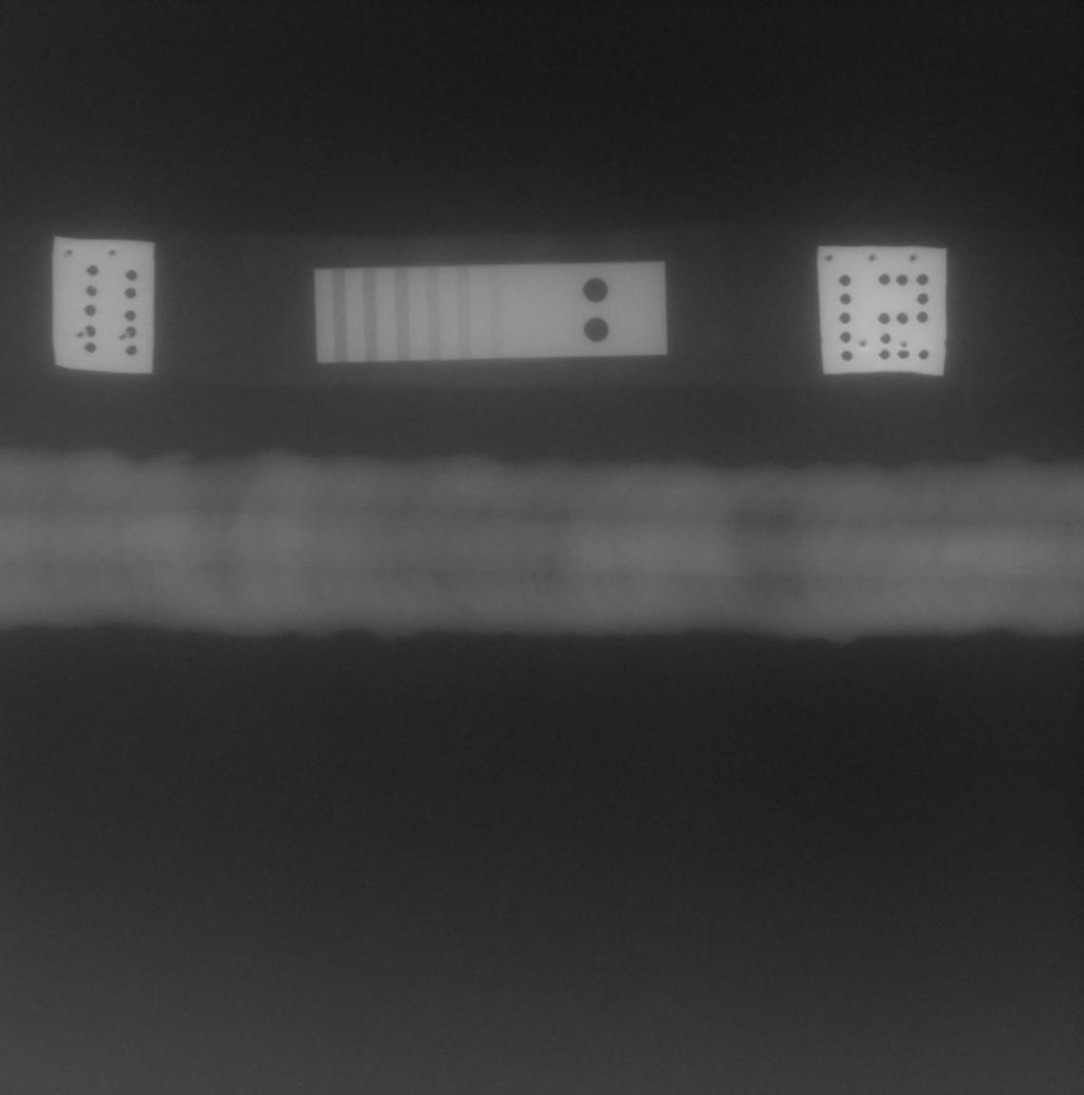Reference Standard 2: (313, 262, 668, 363)
